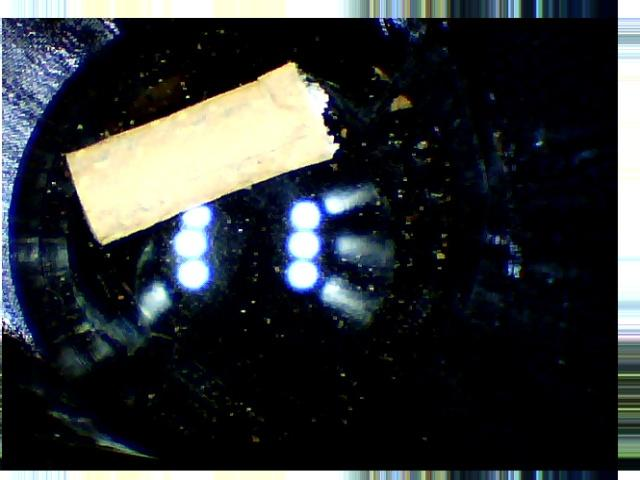megot: (49, 54, 348, 249)
